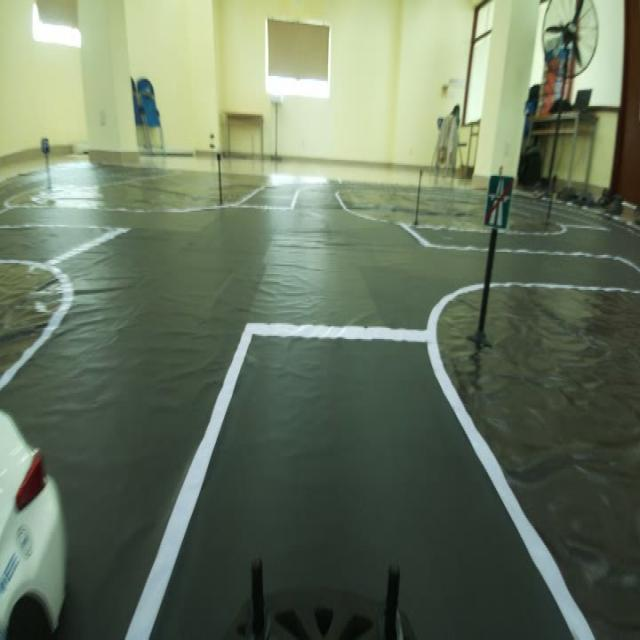highway_exit: (482, 156, 514, 240)
